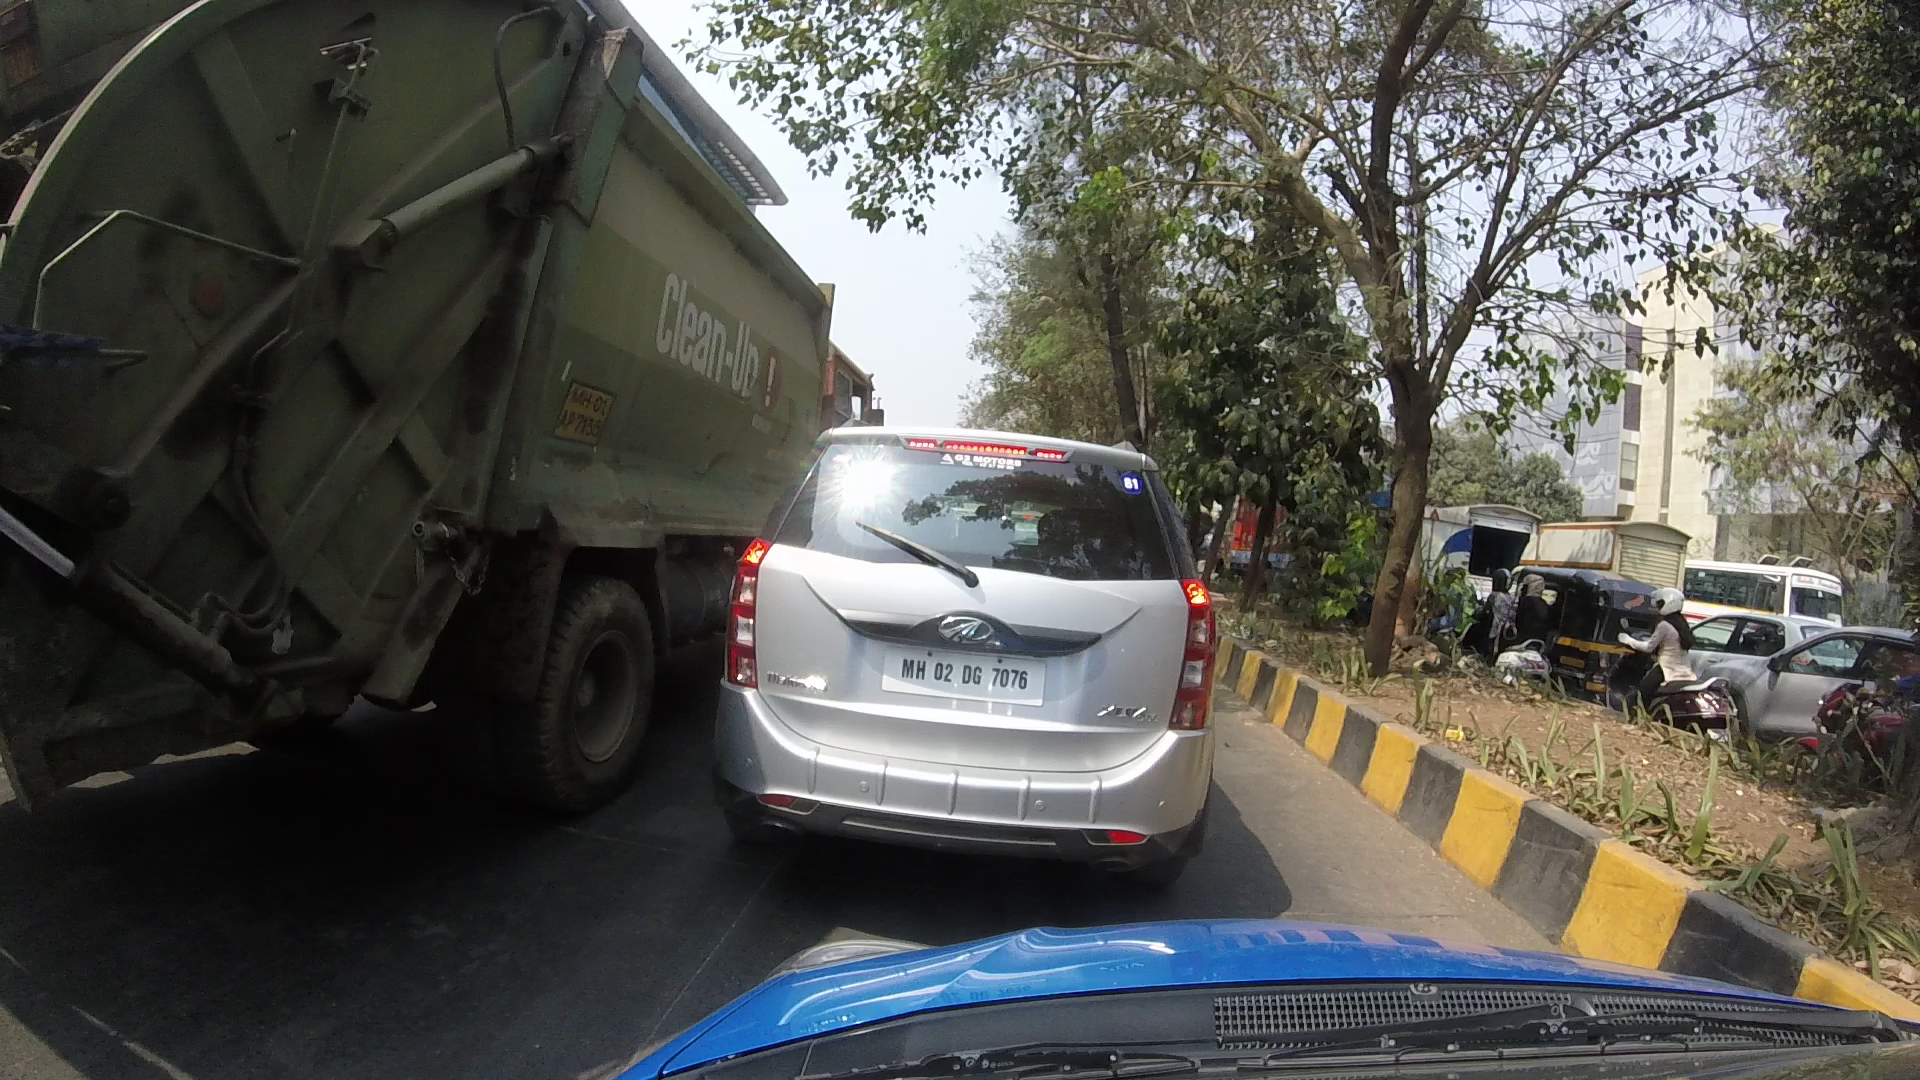bike/scooter: (1602, 611, 1741, 733)
car: (731, 413, 1211, 869), (1734, 616, 1911, 738)
rickshaw: (1481, 563, 1648, 686)
truck: (32, 4, 861, 795)
